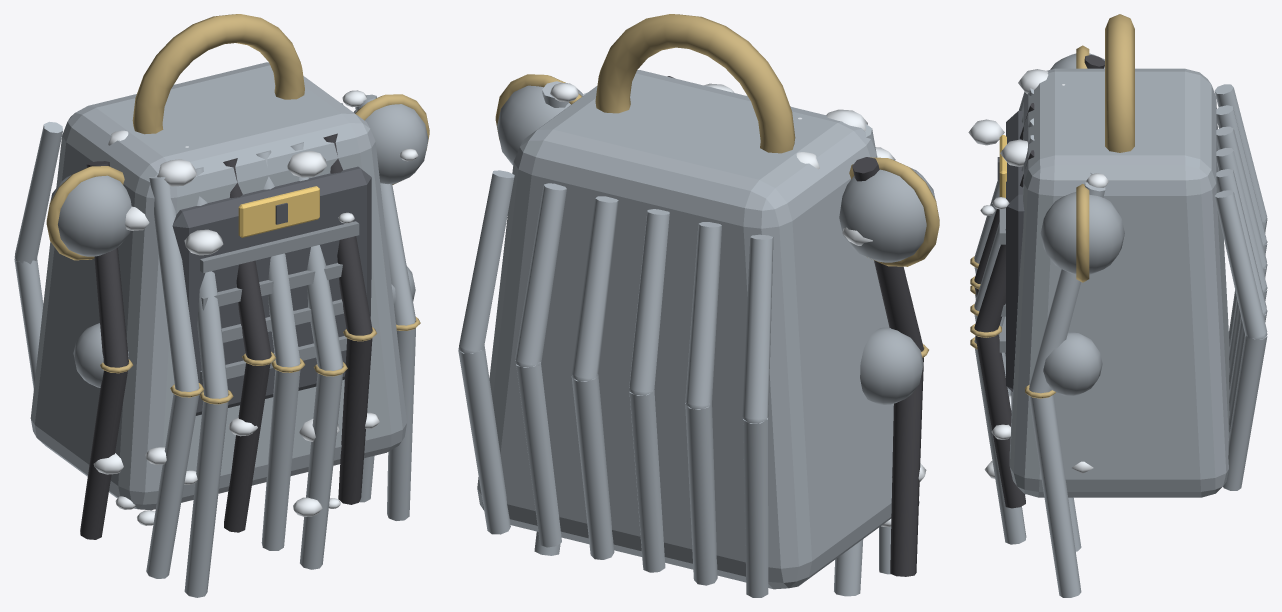
Rendered from restorer_torso.glb.
3 renders of one model, left to right at view 1: azimuth 30°, elevation 25°; view 2: azimuth 150°, elevation 25°; view 3: azimuth 270°, elevation 25°, orthographic. The views are drawn at different scales.
Parts seen in each view (by area): view 1: rs_steel, rs_dark, rs_brass, rs_hose, rs_hose.004, rs_steel*0.9, rs_hose.001, rs_hose.010, rs_hose.007, rs_rubber.007, rs_rubber.001, rs_rubber.004 (+22 smaller); view 2: rs_steel, rs_brass, rs_steel*0.9, rs_rubber.001, rs_hose.034, rs_hose.021, rs_hose.027, rs_hose.030, rs_hose.018, rs_hose.028, rs_hose.022, rs_hose.024 (+10 smaller); view 3: rs_steel, rs_hose.016, rs_steel*0.005, rs_brass, rs_dark, rs_hose.033, rs_hose.034, rs_rubber.007, rs_steel*0.006, rs_hose.015, rs_rubber.006, rs_hose.010 (+14 smaller).
Boxes of the visible parts, left/top/right/bottom form: rs_steel: left=30, top=62, right=406, bottom=510; rs_dark: left=172, top=166, right=371, bottom=415; rs_brass: left=132, top=14, right=304, bottom=134; rs_hose: left=149, top=177, right=199, bottom=391; rs_hose.004: left=184, top=401, right=228, bottom=597; rs_steel*0.9: left=50, top=175, right=131, bottom=256; rs_hose.001: left=146, top=394, right=199, bottom=578; rs_hose.010: left=300, top=373, right=342, bottom=569; rs_hose.007: left=261, top=370, right=300, bottom=550; rs_rubber.007: left=338, top=338, right=372, bottom=504; rs_rubber.001: left=80, top=370, right=127, bottom=539; rs_rubber.004: left=224, top=363, right=270, bottom=532; rs_steel: left=477, top=70, right=893, bottom=589; rs_brass: left=595, top=14, right=795, bottom=153; rs_steel*0.9: left=839, top=168, right=935, bottom=262; rs_rubber.001: left=890, top=357, right=923, bottom=576; rs_hose.034: left=458, top=345, right=510, bottom=534; rs_hose.021: left=685, top=222, right=721, bottom=405; rs_hose.027: left=572, top=196, right=618, bottom=378; rs_hose.030: left=515, top=183, right=566, bottom=365; rs_hose.018: left=742, top=234, right=773, bottom=419; rs_hose.028: left=571, top=374, right=614, bottom=559; rs_hose.022: left=685, top=403, right=717, bottom=585; rs_hose.024: left=629, top=209, right=669, bottom=392; rs_steel: left=1009, top=68, right=1229, bottom=497; rs_hose.016: left=1029, top=395, right=1081, bottom=597; rs_steel*0.005: left=1040, top=192, right=1124, bottom=274; rs_brass: left=1105, top=14, right=1134, bottom=152; rs_dark: left=1006, top=111, right=1024, bottom=391; rs_hose.033: left=1214, top=190, right=1267, bottom=338; rs_hose.034: left=1223, top=335, right=1267, bottom=490; rs_rubber.007: left=975, top=334, right=1025, bottom=508; rs_steel*0.006: left=1043, top=332, right=1102, bottom=395; rs_hose.015: left=1029, top=182, right=1105, bottom=393; rs_rubber.006: left=974, top=150, right=1034, bottom=332; rs_hose.010: left=974, top=348, right=1026, bottom=544.
Size of the model in its own units: 1.72 by 2.23 by 1.21.
